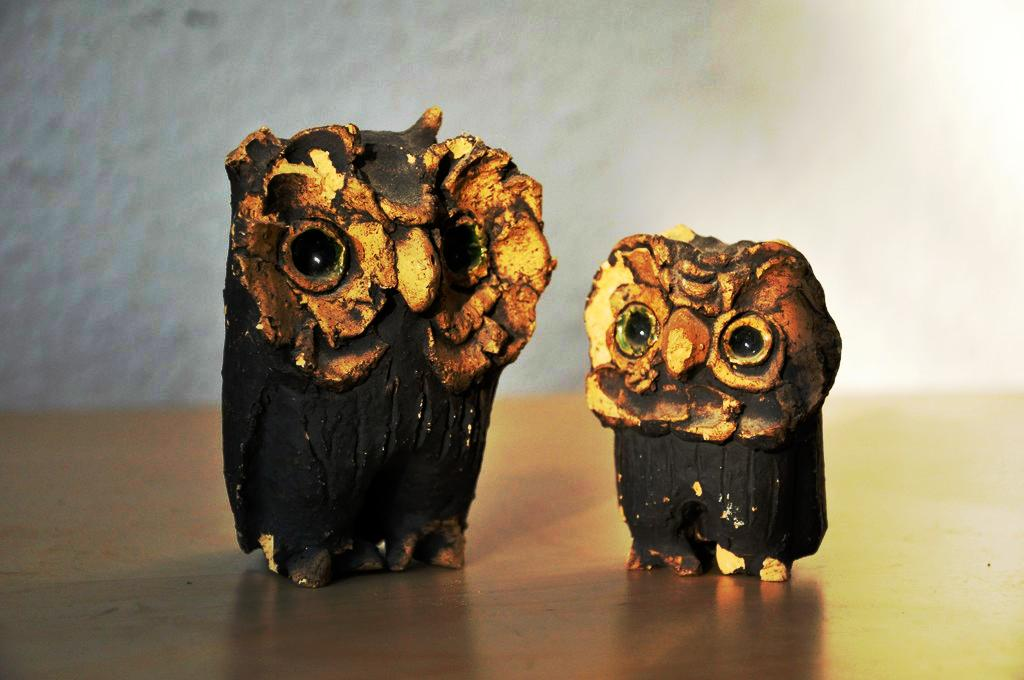Owl: (218, 113, 556, 560), (586, 222, 871, 576)
